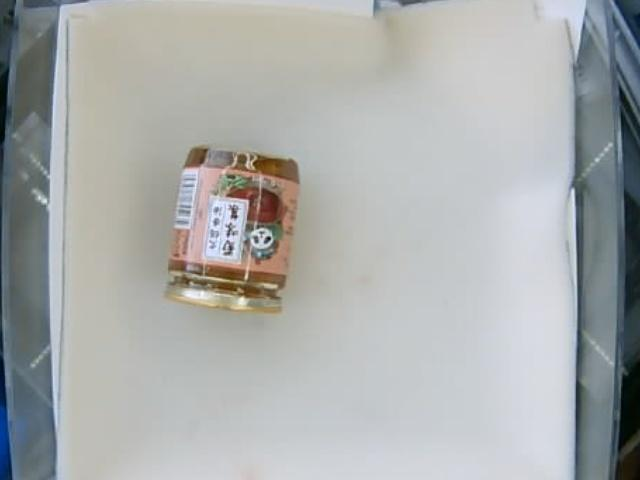Bottle: (159, 147, 299, 316)
